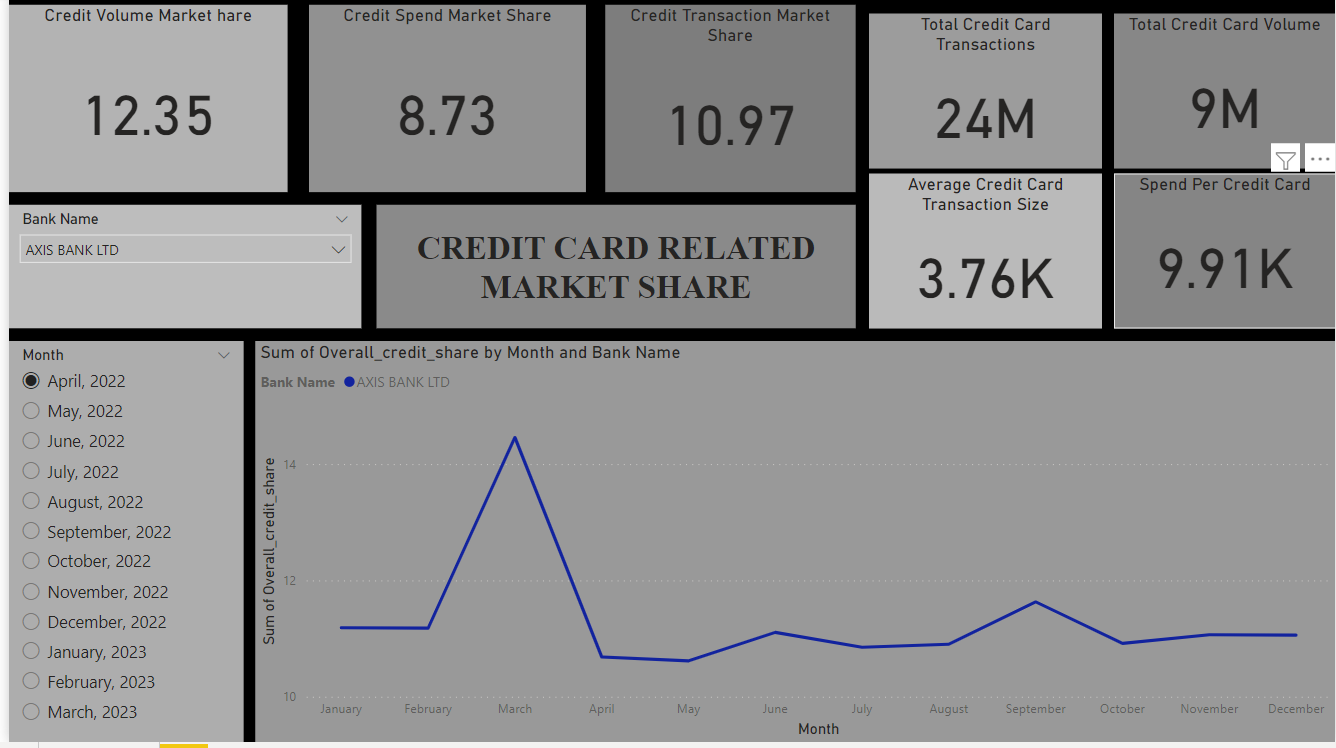

The dashboard page shown, as its layout file describes it:
{"tool":"powerbi","page":{"name":"CREDIT","canvas":[1280,720],"ordinal":0},"visuals":[{"type":"slicer","fields":{"Values":["Sheet1.Bank Name"]},"box":[0,201.7,340.3,119.4],"z":0},{"type":"card","title":"Total Credit Card Volume","fields":{"Values":["Sum(Sheet1.Credit Cards)"]},"box":[1066.2,16.5,214.1,149.6],"z":1000},{"type":"slicer","fields":{"Values":["Sheet1.Month"]},"box":[0,333.4,226.4,387],"z":2000},{"type":"card","title":"Spend Per Credit Card","fields":{"Values":["Sum(Sheet1.Spend_per_Card_C)"]},"box":[1066.2,171.5,214.1,149.6],"z":3000},{"type":"card","title":"Total Credit Card Transactions","fields":{"Values":["Sum(Sheet1.Cc_transactions)"]},"box":[830.2,16.5,225,149.6],"z":4000},{"type":"card","title":"Average Credit Card Transaction Size","fields":{"Values":["Sum(Sheet1.avg_trans_size_c)"]},"box":[830.2,171.5,225,149.6],"z":5000},{"type":"card","title":"Credit Volume Market hare","fields":{"Values":["Sum(Sheet1.cc_volume_share)"]},"box":[0,8.2,269,181.1],"z":6000},{"type":"card","title":"Credit Spend Market Share","fields":{"Values":["Sum(Sheet1.cc_spend_share)"]},"box":[289.5,8.2,267.6,181.1],"z":7000},{"type":"card","title":"Credit Transaction Market Share","fields":{"Values":["Sum(Sheet1.cc_trans_share)"]},"box":[575,8.2,241.5,181.1],"z":8000},{"type":"lineChart","fields":{"Category":["Sheet1.Month.Variation.Date Hierarchy.Month"],"Series":["Sheet1.Bank Name"],"Y":["Sum(Sheet1.Overall_credit_share)"]},"box":[237.4,333.4,1042.9,387],"z":9000},{"type":"textbox","box":[354,201.7,462.4,119.4],"z":10000}]}

Visuals, with their boxes in screenshot pixels (x1, y1, x2, y2), scaled from the page's 1280x720 canvas onto the 1336x748 screenshot:
slicer - Sheet1.Bank Name: (x1=0, y1=210, x2=355, y2=334)
"Total Credit Card Volume" card: (x1=1113, y1=17, x2=1335, y2=173)
slicer - Sheet1.Month: (x1=0, y1=346, x2=236, y2=747)
"Spend Per Credit Card" card: (x1=1113, y1=178, x2=1335, y2=334)
"Total Credit Card Transactions" card: (x1=867, y1=17, x2=1101, y2=173)
"Average Credit Card Transaction Size" card: (x1=867, y1=178, x2=1101, y2=334)
"Credit Volume Market hare" card: (x1=0, y1=9, x2=281, y2=197)
"Credit Spend Market Share" card: (x1=302, y1=9, x2=581, y2=197)
"Credit Transaction Market Share" card: (x1=600, y1=9, x2=852, y2=197)
lineChart - Sheet1.Month.Variation.Date Hierarchy.Month x Sheet1.Bank Name: (x1=248, y1=346, x2=1335, y2=747)
textbox: (x1=369, y1=210, x2=852, y2=334)
